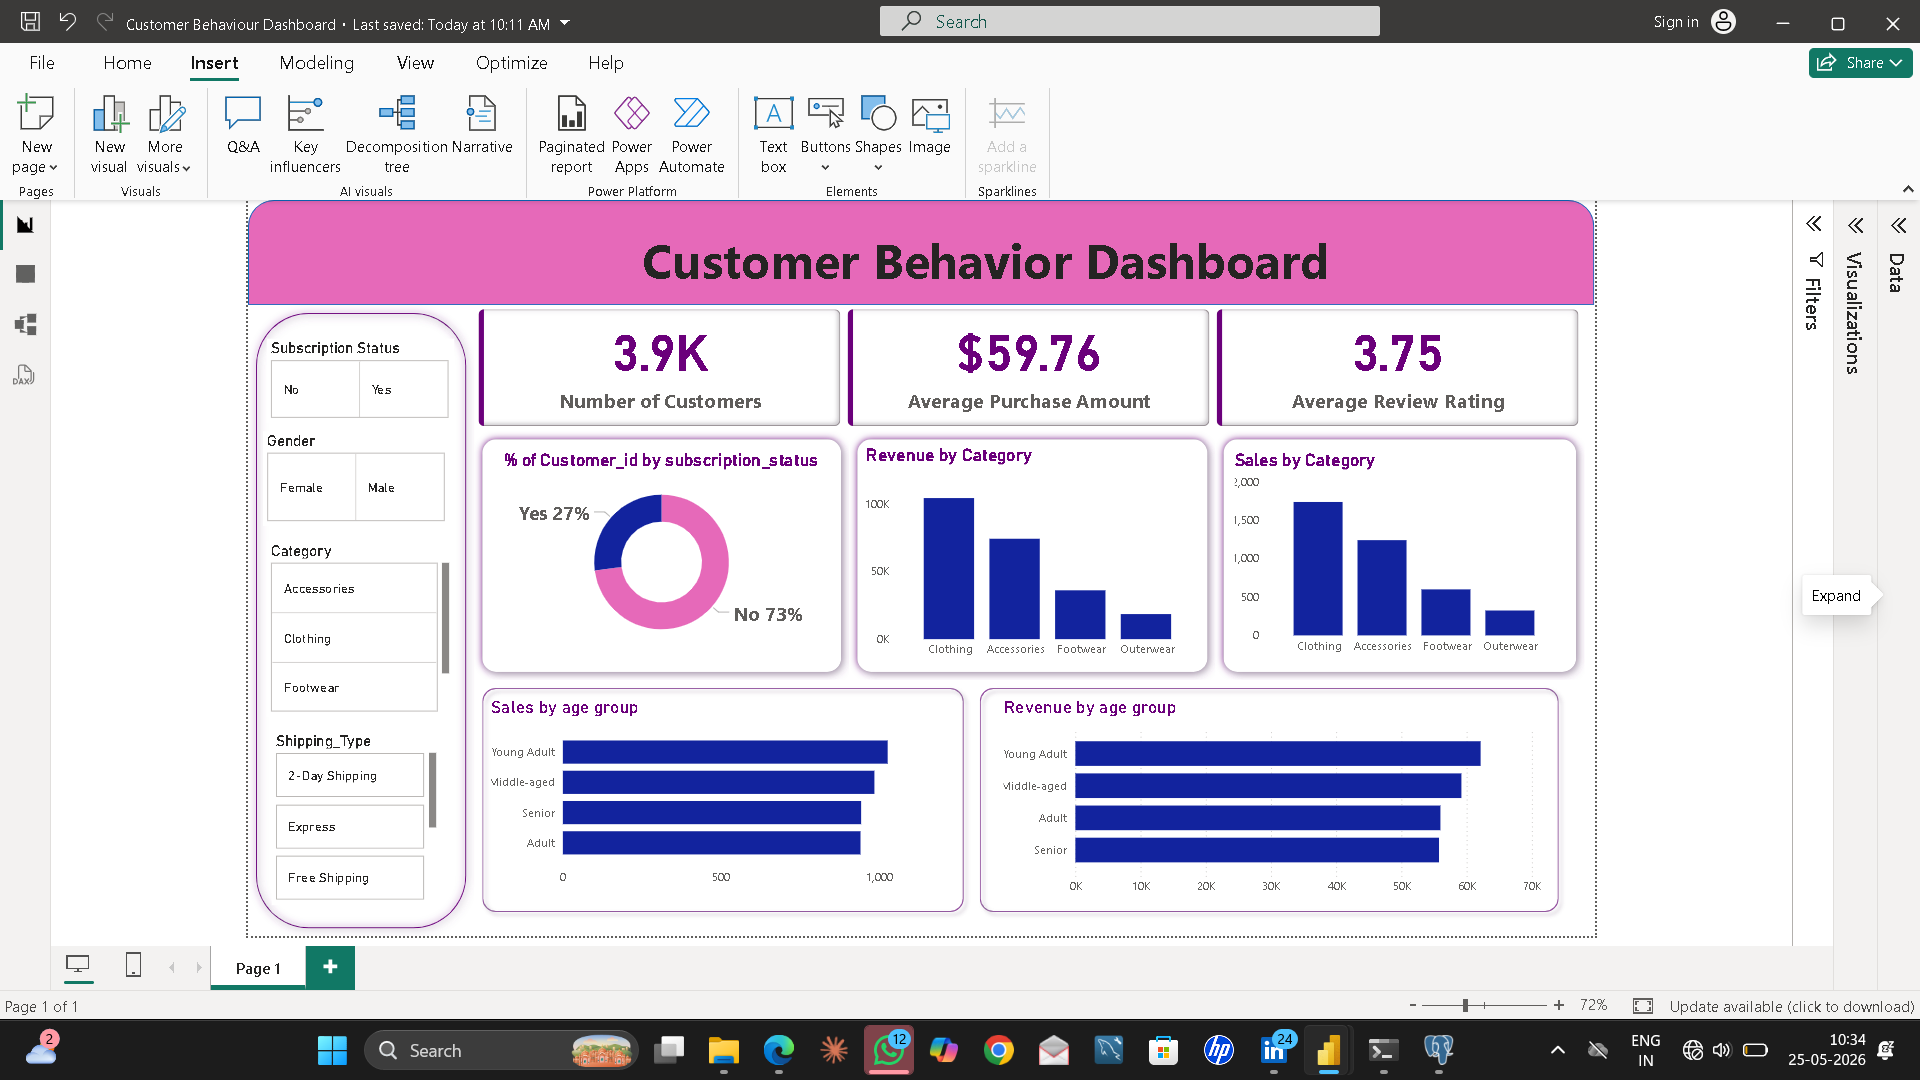

The page's visual inventory and layout, read from the dashboard file:
{"tool":"powerbi","page":{"name":"Page 1","canvas":[1500,820],"ordinal":0},"visuals":[{"type":"cardVisual","fields":{"Data":["public customer.Number of Customers","public customer.Average Purchase Amount","public customer.Average Review Rating"]},"box":[252.1,117,1236.7,140.7],"z":0},{"type":"shape","box":[0,0,1499.9,117],"z":1000},{"type":"textbox","box":[0,25.1,1499.9,91.9],"z":2000},{"type":"shape","box":[252.1,257.6,417.8,277.1],"z":3000},{"type":"donutChart","title":"% of Customer_id by subscription_status","fields":{"Category":["public customer.subscription_status"],"Y":["CountNonNull(public customer.customer_id)"]},"box":[279.9,278.5,362.1,228.4],"z":4000},{"type":"shape","box":[669.9,257.6,408.1,277.1],"z":5000},{"type":"shape","box":[1077.9,257.6,410.8,277.1],"z":6000},{"type":"clusteredColumnChart","title":"Revenue by Category","fields":{"Y":["Sum(public customer.purchase_amount)"],"Category":["public customer.category"]},"box":[683.8,273,381.6,246.5],"z":7000},{"type":"clusteredColumnChart","title":"Sales by Category","fields":{"Category":["public customer.category"],"Y":["CountNonNull(public customer.customer_id)"]},"box":[1094.6,278.5,374.6,236.8],"z":8000},{"type":"shape","box":[0,117,252.1,703.3],"z":9000},{"type":"advancedSlicerVisual","fields":{"Values":["public customer.subscription_status"]},"box":[20.9,154.6,208.9,93.3],"z":10000},{"type":"advancedSlicerVisual","fields":{"Values":["public customer.category"]},"box":[20.9,380.2,208.9,196.4],"z":12000},{"type":"advancedSlicerVisual","fields":{"Values":["public customer.shipping_type"]},"box":[26.5,591.9,188,193.6],"z":13000},{"type":"clusteredBarChart","title":" Revenue by age group","fields":{"Y":["Sum(public customer.purchase_amount)"],"Category":["public customer.age_group"]},"box":[837,554.3,608.6,228.4],"z":14000},{"type":"advancedSlicerVisual","fields":{"Values":["public customer.gender"]},"box":[16.7,257.6,208.9,105.8],"z":15001},{"type":"clusteredBarChart","title":"Sales by age group","fields":{"Y":["CountNonNull(public customer.customer_id)"],"Category":["public customer.age_group"]},"box":[266,554.3,526.4,218.6],"z":15003},{"type":"shape","box":[806.4,534.8,662.9,267.4],"z":15004},{"type":"shape","box":[252.1,534.8,554.3,267.4],"z":15005}]}

Visuals, with their boxes on the page's 1500x820 design canvas (x1, y1, x2, y2). These are canvas units, not pixel positions in the 1920x1080 screenshot, which may show the page scaled, cropped or inside an application window:
cardVisual - public customer.Number of Customers x public customer.Average Purchase Amount: bbox=[252, 117, 1489, 258]
shape: bbox=[0, 0, 1500, 117]
textbox: bbox=[0, 25, 1500, 117]
shape: bbox=[252, 258, 670, 535]
"% of Customer_id by subscription_status" donutChart: bbox=[280, 278, 642, 507]
shape: bbox=[670, 258, 1078, 535]
shape: bbox=[1078, 258, 1489, 535]
"Revenue by Category" clusteredColumnChart: bbox=[684, 273, 1065, 520]
"Sales by Category" clusteredColumnChart: bbox=[1095, 278, 1469, 515]
shape: bbox=[0, 117, 252, 820]
advancedSlicerVisual - public customer.subscription_status: bbox=[21, 155, 230, 248]
advancedSlicerVisual - public customer.category: bbox=[21, 380, 230, 577]
advancedSlicerVisual - public customer.shipping_type: bbox=[26, 592, 214, 786]
" Revenue by age group" clusteredBarChart: bbox=[837, 554, 1446, 783]
advancedSlicerVisual - public customer.gender: bbox=[17, 258, 226, 363]
"Sales by age group" clusteredBarChart: bbox=[266, 554, 792, 773]
shape: bbox=[806, 535, 1469, 802]
shape: bbox=[252, 535, 806, 802]
